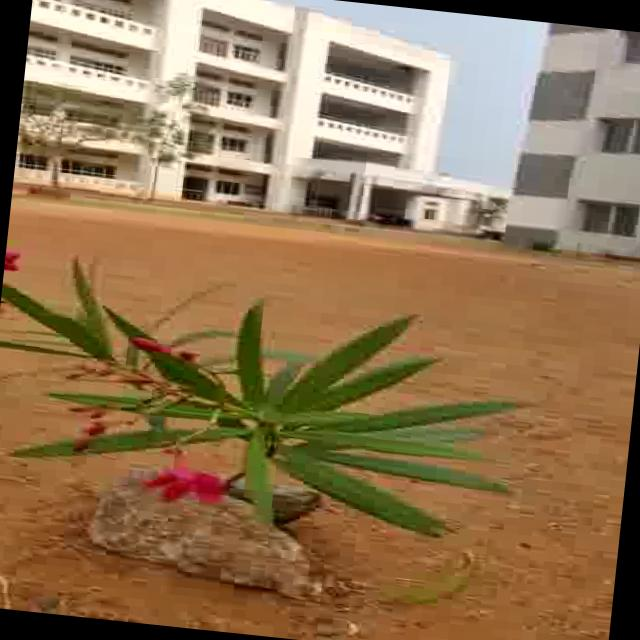Oleander: (0, 269, 585, 626)
